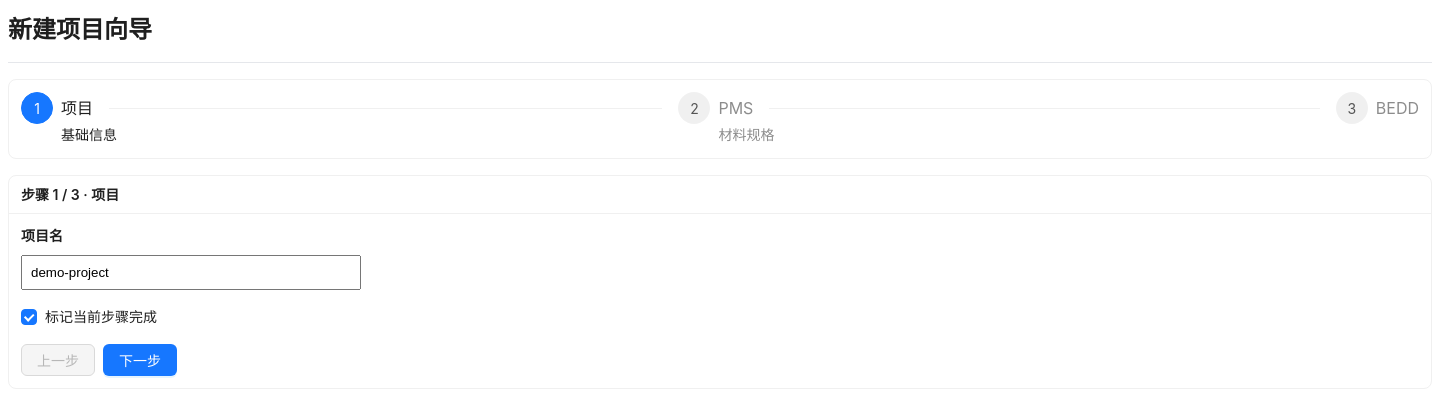
Test: ProjectWizardPage › disables finish when not all steps done
Click the button with test id "wizard-next".
click(140, 360)  # box top-left (103, 344), bottom-right (177, 376)
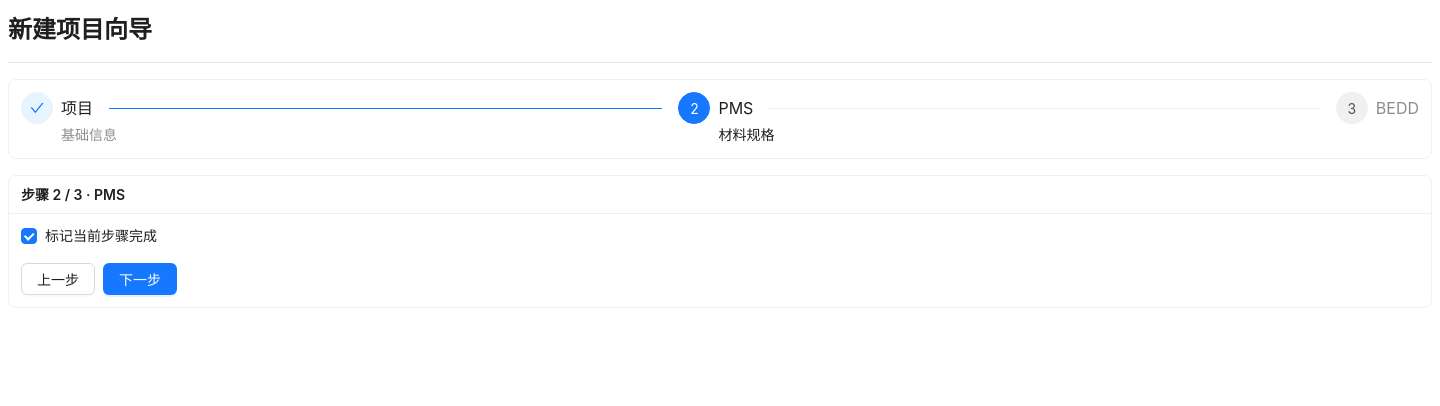
Click the button with test id "wizard-next".
click(140, 279)  # box top-left (103, 263), bottom-right (177, 295)
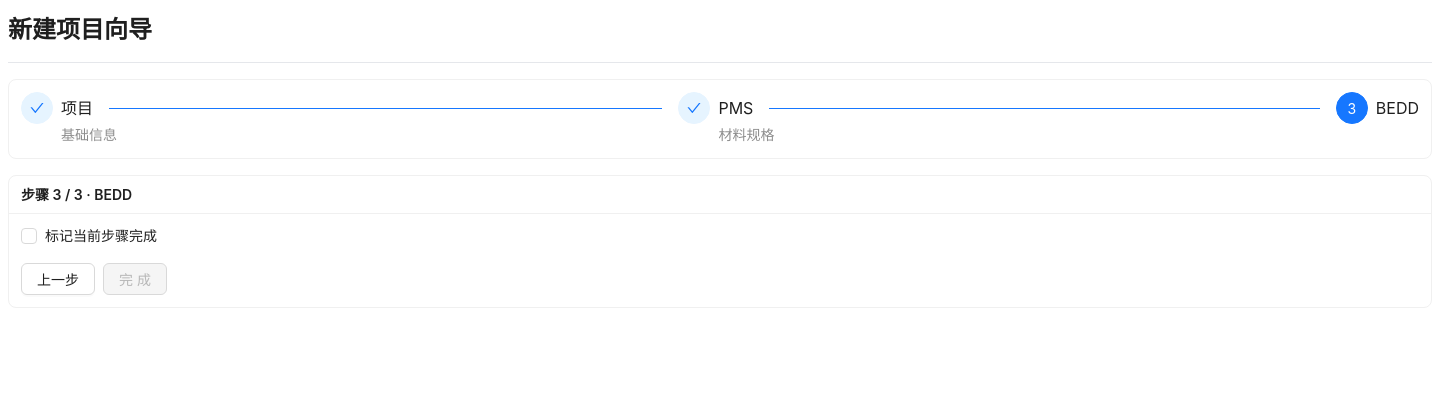
Result: the button with test id "wizard-finish" is disabled at top-left (103, 263), bottom-right (167, 295)
